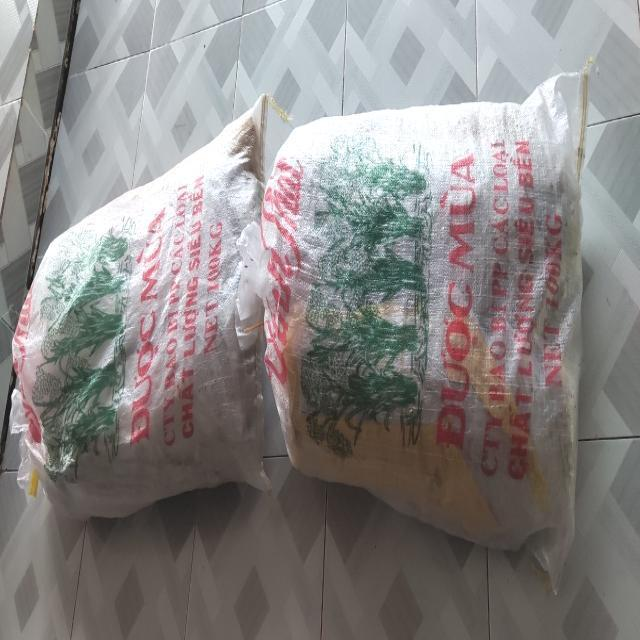gunny_bag: (261, 75, 585, 585), (10, 95, 268, 519)
